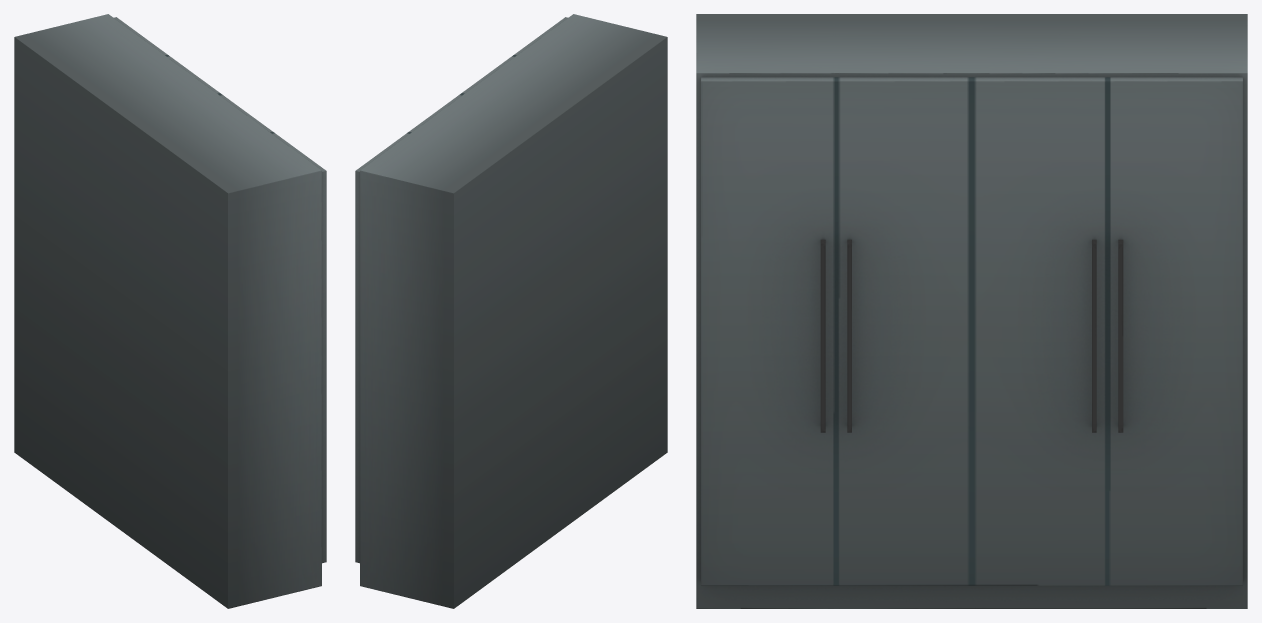
File: closetDoubleBlue.glb
3 views of the same model, side by side, from view 1: azimuth 30°, elevation 25°; view 2: azimuth 150°, elevation 25°; view 3: azimuth 270°, elevation 25° (orthographic). The views are drawn at different scales.
Visible parts, largest first — view 1: Object_56; view 2: Object_56; view 3: Object_56.
Boxes of the visible parts, left/top/right/bottom form: Object_56: left=14, top=14, right=326, bottom=608; Object_56: left=355, top=14, right=667, bottom=608; Object_56: left=696, top=14, right=1247, bottom=608.
Size of the model in its own units: 1.16 by 4.22 by 3.94.
1 material, 1 textured.
